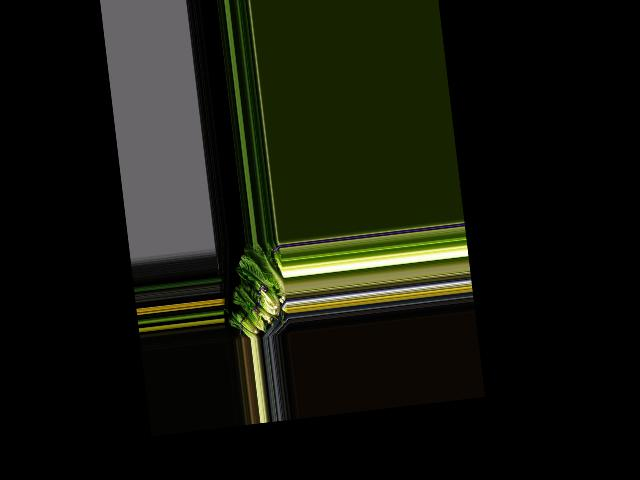lettuce: (239, 242, 283, 299)
